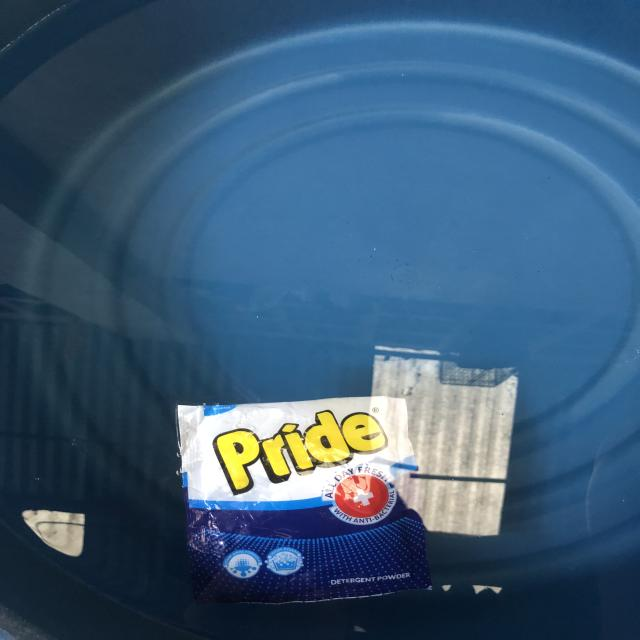Plastic Wrapper: (153, 390, 446, 624)
